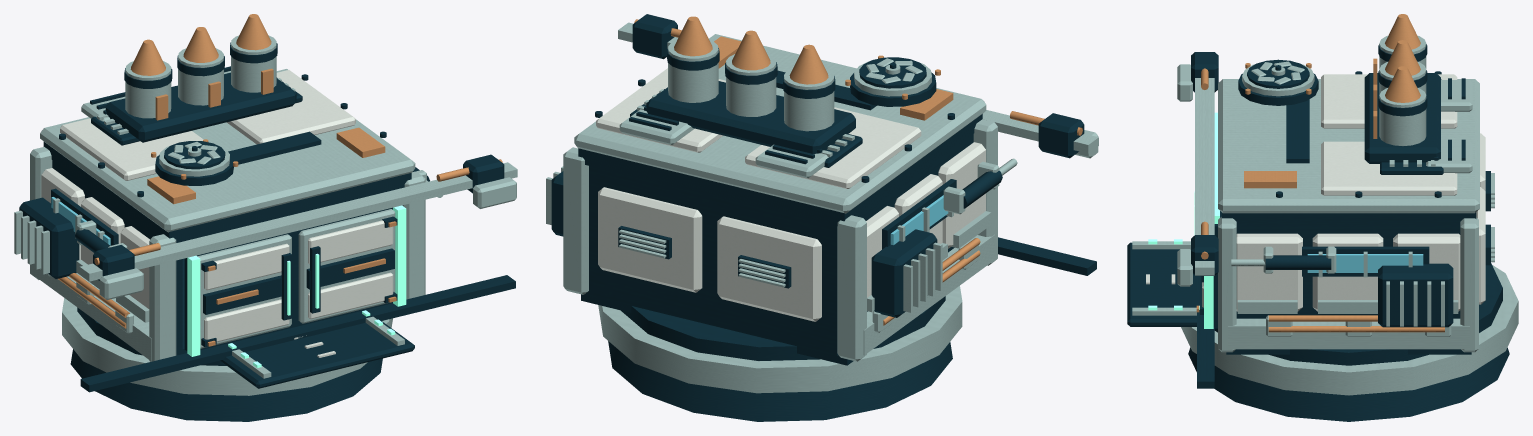
The model's file is missile.glb.
3 renders of one model, left to right at view 1: azimuth 30°, elevation 25°; view 2: azimuth 150°, elevation 25°; view 3: azimuth 270°, elevation 25°, orthographic. The views are drawn at different scales.
Visible parts, largest first — view 1: _MeshInstance3D_779, RightDoor, LeftDoor, ProductionCoolingRotor; view 2: _MeshInstance3D_779, ProductionCoolingRotor; view 3: _MeshInstance3D_779, ProductionCoolingRotor, RightDoor.
Part boxes in pixels (x1=…): _MeshInstance3D_779: x1=14, y1=14, x2=517, y2=421; RightDoor: x1=294, y1=207, x2=397, y2=327; LeftDoor: x1=184, y1=232, x2=294, y2=350; ProductionCoolingRotor: x1=168, y1=141, x2=220, y2=164; _MeshInstance3D_779: x1=546, y1=14, x2=1098, y2=421; ProductionCoolingRotor: x1=866, y1=58, x2=922, y2=83; _MeshInstance3D_779: x1=1127, y1=14, x2=1518, y2=421; ProductionCoolingRotor: x1=1251, y1=61, x2=1304, y2=84; RightDoor: x1=1194, y1=205, x2=1221, y2=328.
Size of the model in its own units: 0.512 by 0.351 by 0.399.
Materials: 2 (1 with a texture image).
